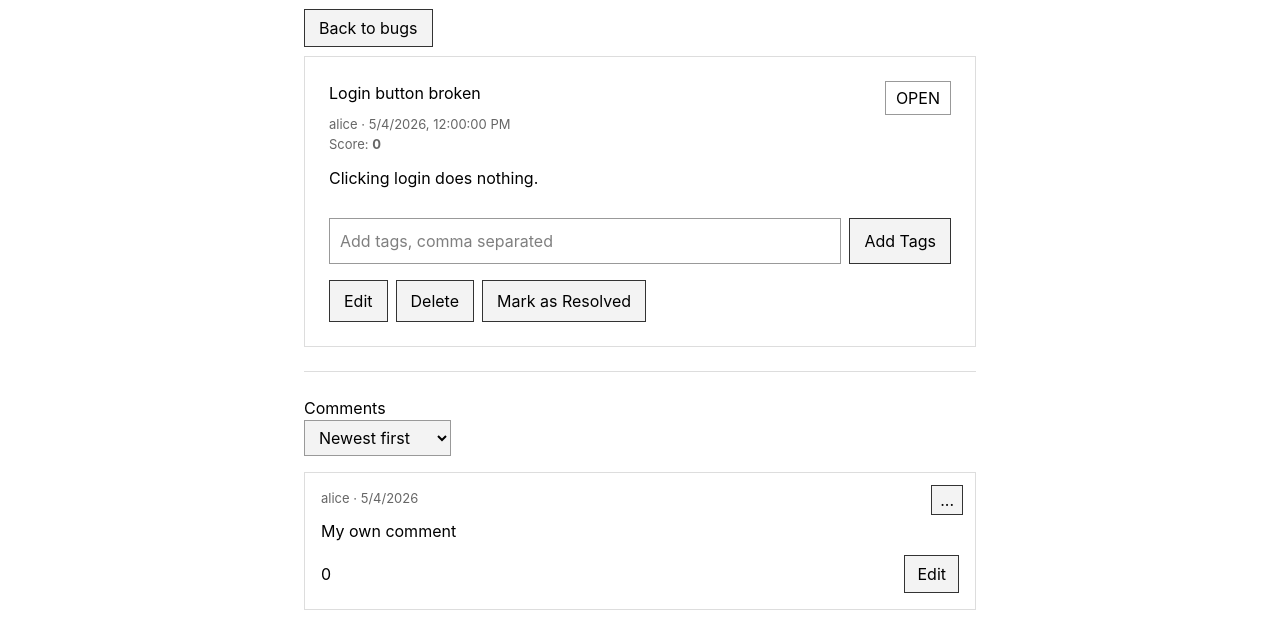
Scenario: comments › edit own comment → text updates
The image size is (1280, 617).
Expected: the text "My own comment" is shown, left=321, top=520, right=456, bottom=540
Step 1. Click the 2nd button "Edit" → [933, 574], box left=905, top=555, right=960, bottom=593
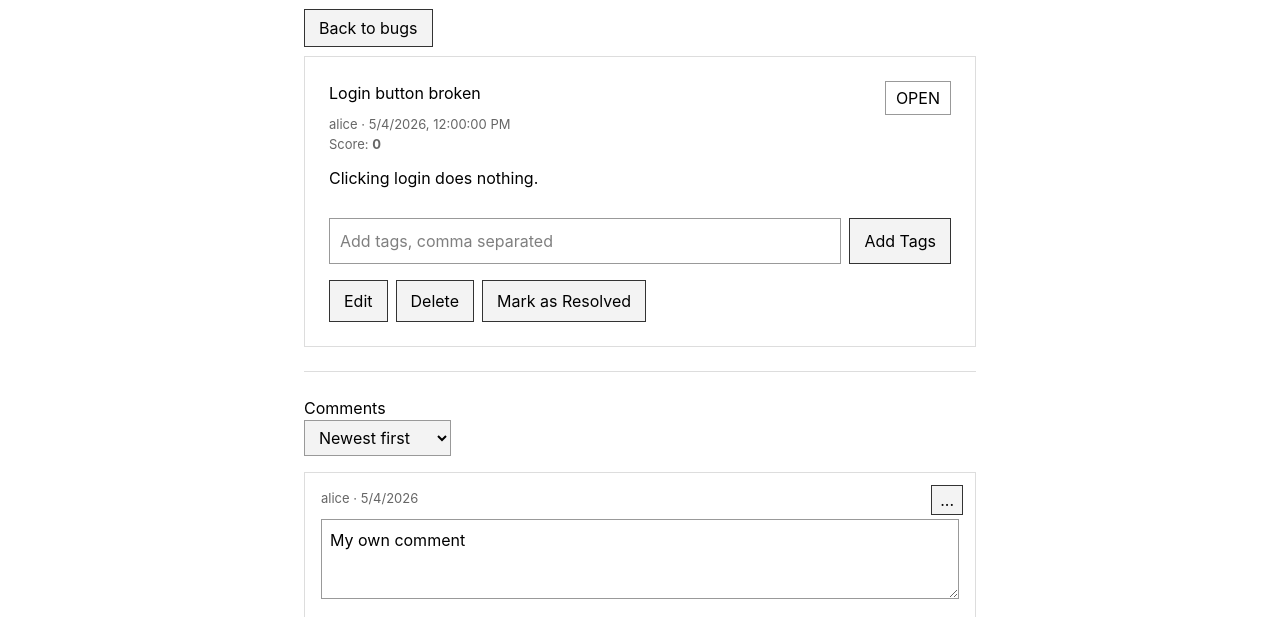
Step 2. Replace the text in the text box named "Edit comment text" with "Updated comment text" → [640, 559], box left=321, top=519, right=959, bottom=599
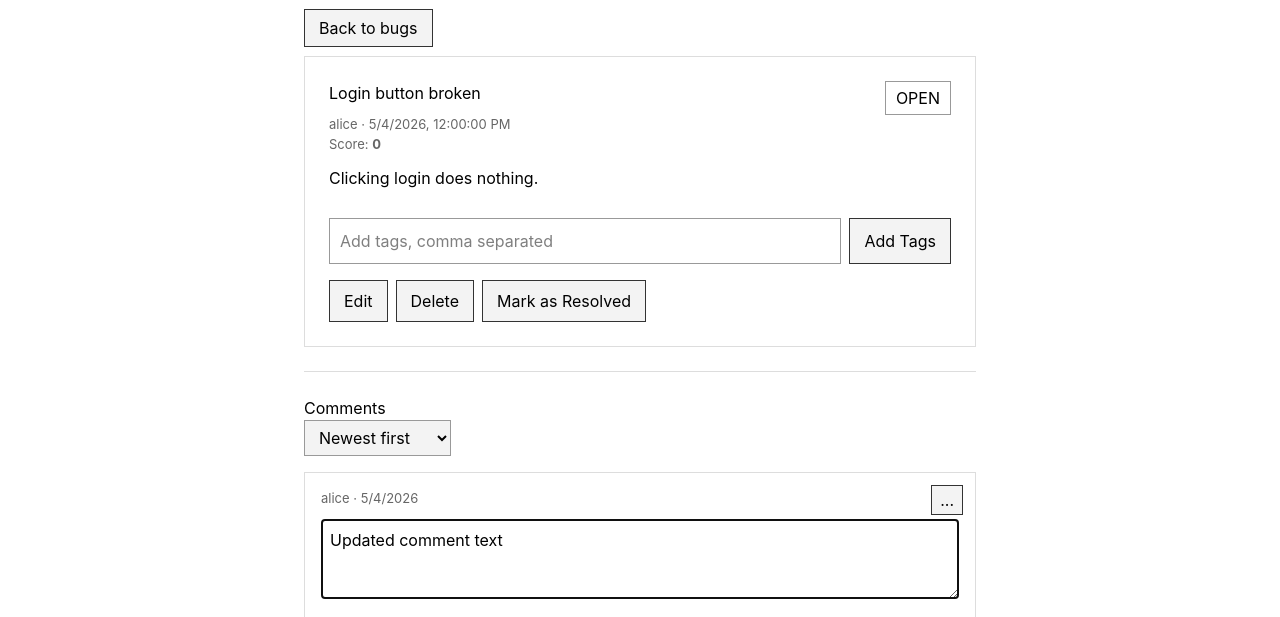
Step 3. Scroll
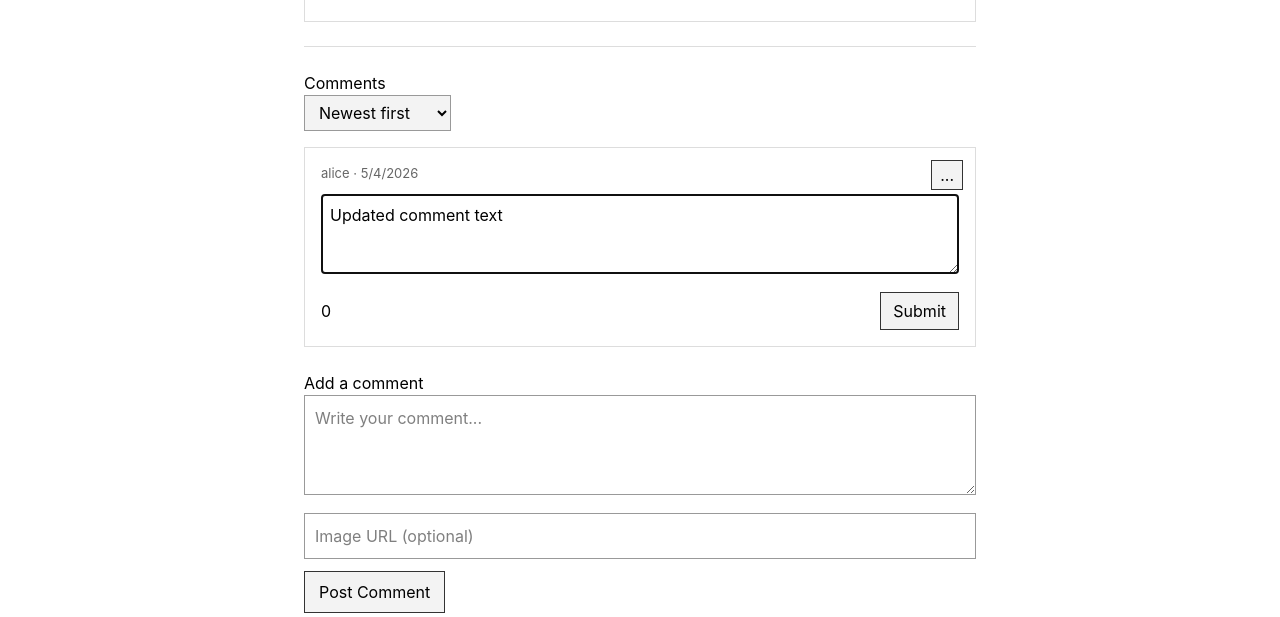
Step 4. Click the button "Submit" → [920, 311], box left=880, top=292, right=959, bottom=330
(page scrolled)
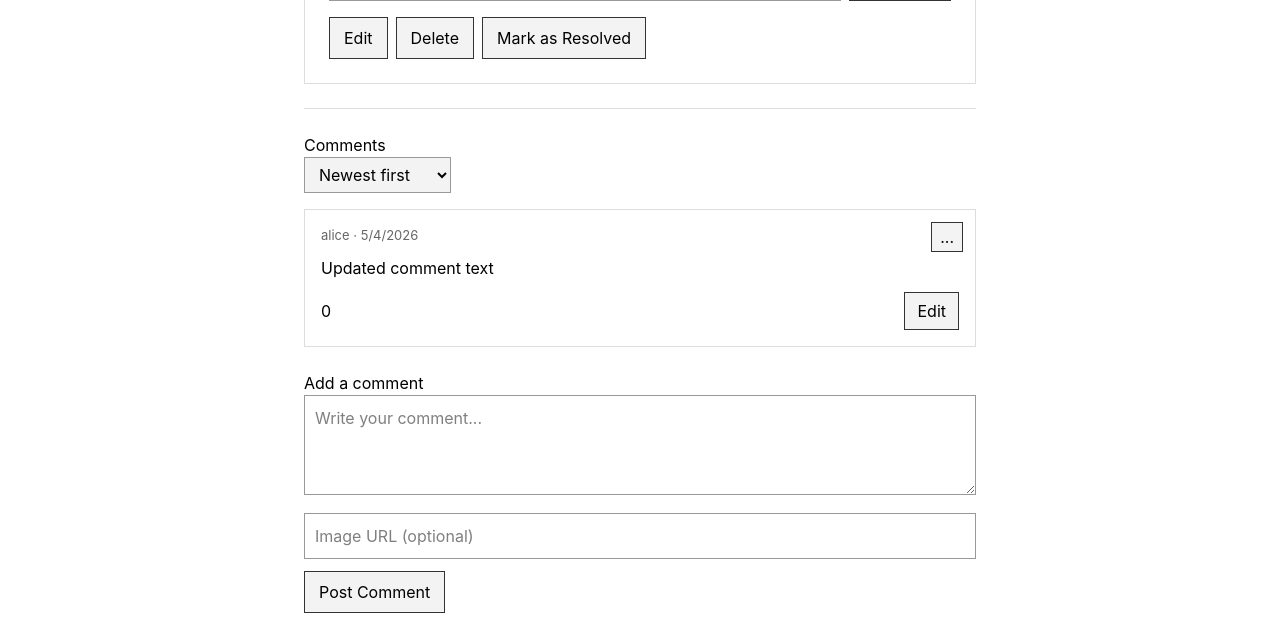
Expected: the text "My own comment" is not shown
Now the text "Updated comment text" is shown, box left=321, top=258, right=494, bottom=278
